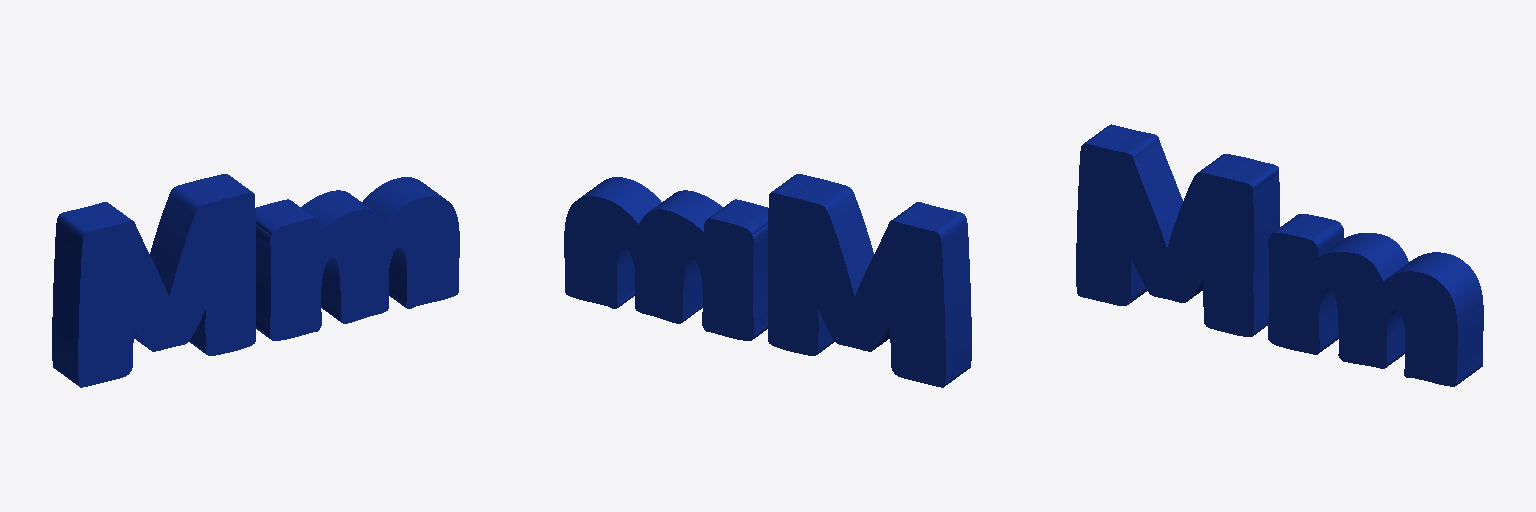
File: Letter_m.obj
3 renders of one model, left to right at view 1: azimuth 30°, elevation 25°; view 2: azimuth 150°, elevation 25°; view 3: azimuth 330°, elevation 25°, orthographic.
Visible parts, largest first — view 1: Text; view 2: Text; view 3: Text.
Boxes of the visible parts, x1,y1,x2,y2 form: Text: [52, 174, 459, 387]; Text: [564, 174, 971, 387]; Text: [1076, 124, 1483, 386].
Size of the model in its own units: 1.69 by 0.664 by 0.2.